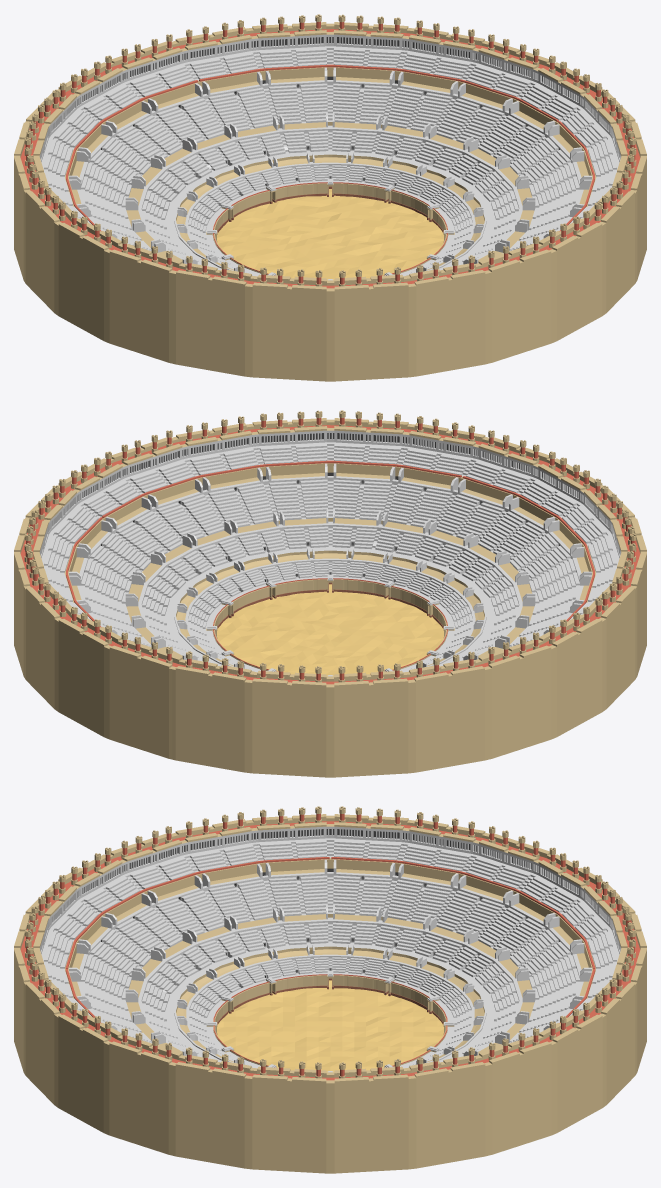
The model's file is colosseumDoors.fbx.
The picture shows the model from 3 angles, top to bottom: view 1: azimuth 30°, elevation 25°; view 2: azimuth 150°, elevation 25°; view 3: azimuth 270°, elevation 25°; orthographic projection.
Parts seen in each view (by area): view 1: colosseum, floor; view 2: colosseum, floor; view 3: colosseum, floor.
Boxes of the visible parts, left/top/right/bottom form: colosseum: left=14, top=14, right=646, bottom=381; floor: left=206, top=189, right=454, bottom=280; colosseum: left=14, top=410, right=646, bottom=777; floor: left=206, top=584, right=454, bottom=676; colosseum: left=14, top=806, right=646, bottom=1173; floor: left=217, top=980, right=443, bottom=1072.
Size of the model in its own units: 64621 by 11736 by 64632.
